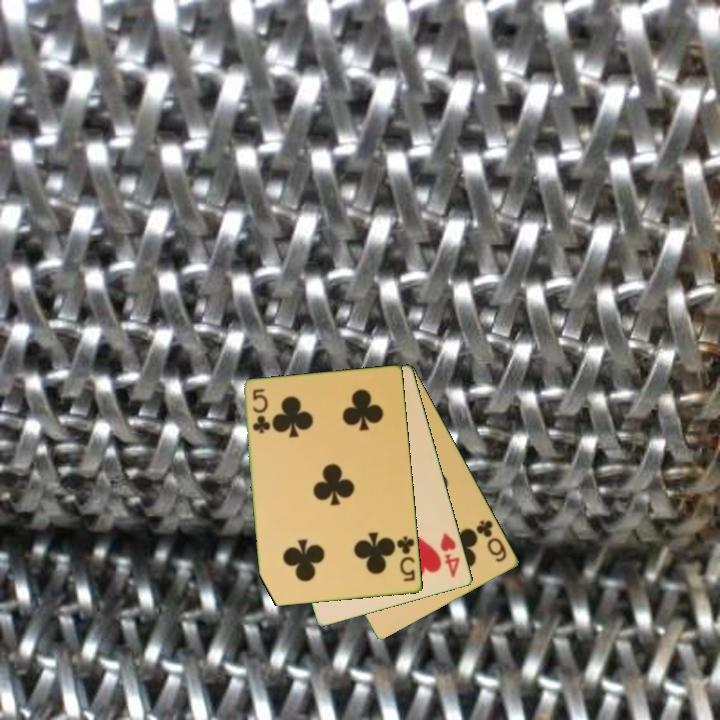4h: (437, 529, 463, 581)
5c: (394, 532, 418, 584), (249, 385, 272, 437)
6c: (473, 517, 510, 565)
